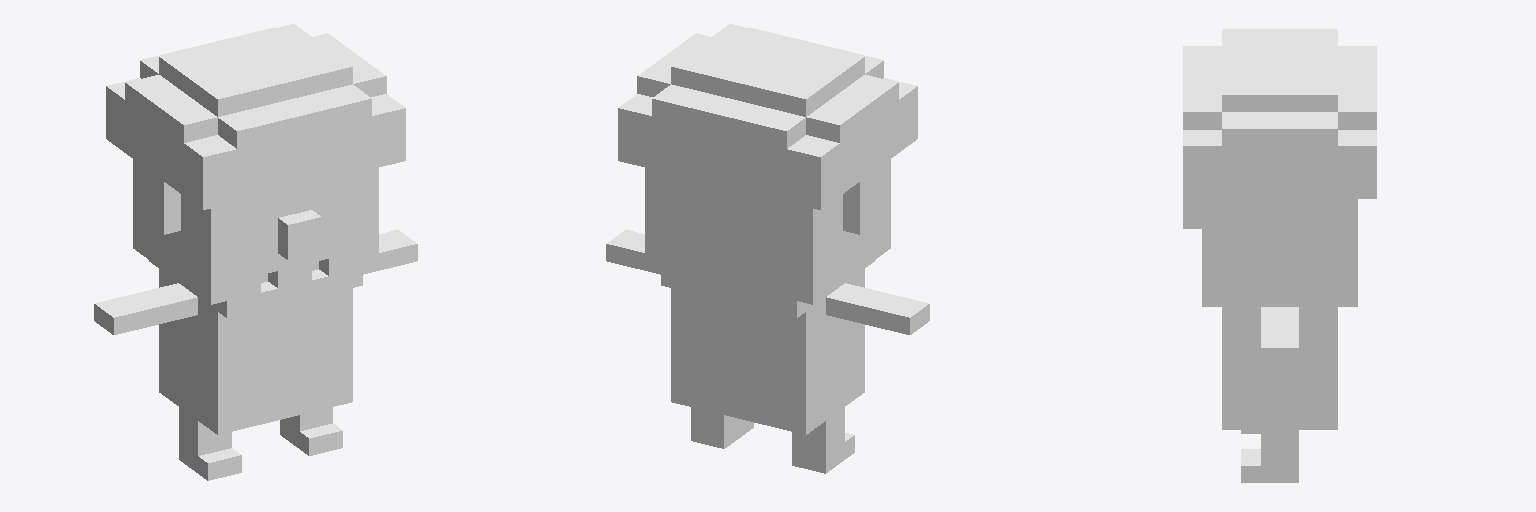
File: prisoner_tpose.obj
3 renders of one model, left to right at view 1: azimuth 30°, elevation 25°; view 2: azimuth 150°, elevation 25°; view 3: azimuth 270°, elevation 25°, orthographic.
Parts seen in each view (by area): view 1: object 1; view 2: object 1; view 3: object 1.
Boxes of the visible parts, x1,y1,x2,y2 form: object 1: [94, 24, 417, 480]; object 1: [606, 24, 929, 473]; object 1: [1183, 29, 1376, 482].
Size of the model in its own units: 1.8 by 2.2 by 1.